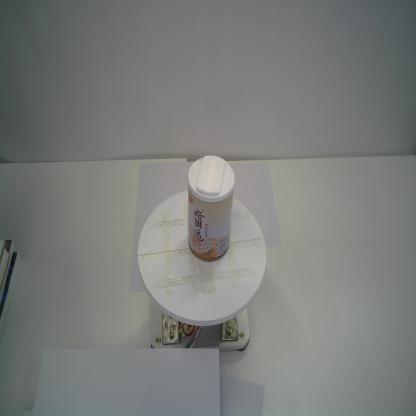Canned Food: (186, 154, 236, 262)
